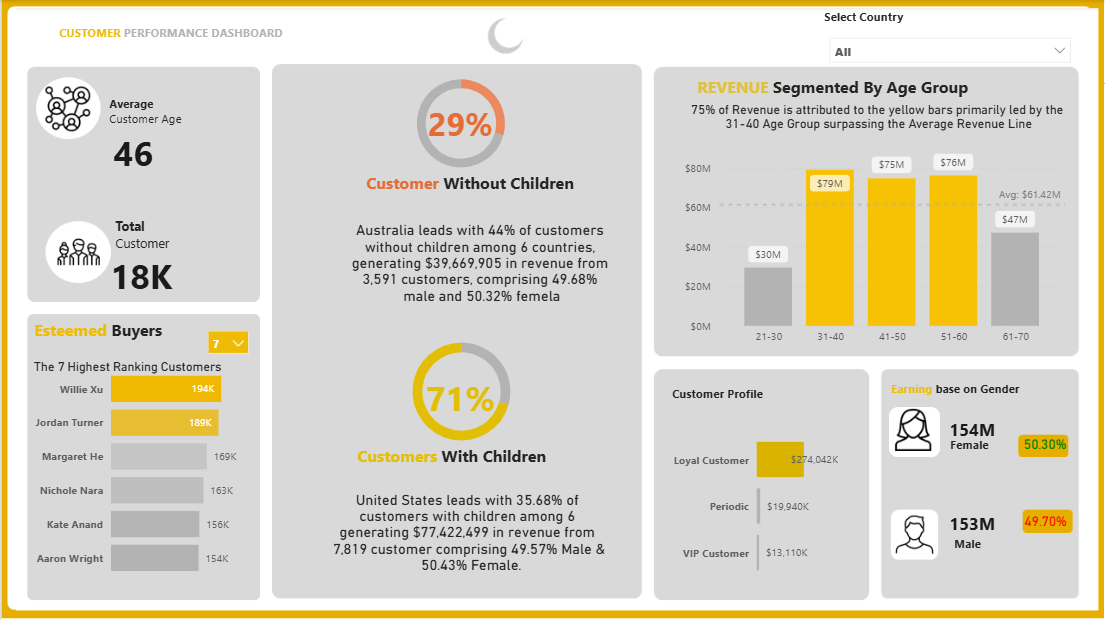

The dashboard page shown, as its layout file describes it:
{"tool":"powerbi","page":{"name":"Page 1","canvas":[1280,720],"ordinal":0},"visuals":[{"type":"lineClusteredColumnComboChart","fields":{"Category":["DimCustomer.Age Group"],"Y":["all measure.total revenue"]},"box":[787.5,161.1,452.2,246.7],"z":0},{"type":"card","fields":{"Values":["customer measure.CAPTION"]},"box":[771,108.4,496.1,56.4],"z":1000},{"type":"textbox","box":[418.9,194.4,327.3,35.2],"z":2000},{"type":"textbox","box":[408.9,510.6,266.9,39.3],"z":3000},{"type":"donutChart","fields":{"Y":["customer measure.%C without C Revenue","customer measure.%CWC Revenue"]},"box":[439.1,378.7,191.3,152.1],"z":4000},{"type":"card","fields":{"Values":["customer measure.Caption Customers Without Children"]},"box":[388.7,227.6,338.4,155.1],"z":5000},{"type":"card","fields":{"Values":["customer measure.%CWC Revenue"]},"box":[476.3,418.9,114.8,83.6],"z":6000},{"type":"card","fields":{"Values":["customer measure.Caption Customers With Children"]},"box":[368.6,549.9,348.5,134.9],"z":7000},{"type":"textbox","box":[803.4,82.5,326.9,35.8],"z":8000},{"type":"group","id":"g1","title":"Group 1","box":[444.5,67.3,185.7,138.1],"z":9000},{"type":"clusteredBarChart","fields":{"Category":["DimCustomer.Customer Type"],"Y":["all measure.total revenue"]},"box":[774.4,478.4,202.4,212.5],"z":10000},{"type":"donutChart","fields":{"Y":["customer measure.%C without C Revenue","customer measure.%CWC Revenue"]},"box":[444.5,67.3,185.3,138],"z":11000,"group":"g1"},{"type":"clusteredBarChart","fields":{"Category":["DimCustomer.FullName"],"Y":["customer measure.Dynamic Customers"]},"box":[33.2,407.9,255.8,276.9],"z":11000},{"type":"slicer","fields":{"Values":["Dynamic.Dynamic"]},"box":[229.6,373.6,68.5,45.3],"z":12000},{"type":"card","fields":{"Values":["customer measure.%C without C Revenue"]},"box":[486.8,99.5,100.7,72.5],"z":13000,"group":"g1"},{"type":"card","fields":{"Values":["customer measure.%Female Revenue"]},"box":[1175.3,502.5,71.5,28.2],"z":13000},{"type":"card","fields":{"Values":["customer measure.%Male Revenue"]},"box":[1178.3,585.1,68.5,41.3],"z":14000},{"type":"card","fields":{"Values":["customer measure.Average Cutomer Age"]},"box":[111.8,143,84.6,68.5],"z":15000},{"type":"card","fields":{"Values":["customer measure.#Customer"]},"box":[120.7,285.5,142.7,68.5],"z":16000},{"type":"textbox","box":[120.8,106.8,150.1,48.3],"z":17000},{"type":"textbox","box":[1096.7,502.5,68.5,30.2],"z":18000},{"type":"textbox","box":[1101.7,617.3,49.3,31.2],"z":19000},{"type":"textbox","box":[127.9,246.7,117.8,51.4],"z":20000},{"type":"textbox","box":[33.2,364.6,326.3,35.2],"z":21000},{"type":"card","fields":{"Values":["customer measure.Title Top Customers"]},"box":[30.2,407.9,233.6,39.3],"z":22000},{"type":"textbox","box":[1028.2,437.1,197.4,35.2],"z":23000},{"type":"card","fields":{"Values":["customer measure.Female Revenue"]},"box":[1091.7,483.4,70.5,33.2],"z":24000},{"type":"card","fields":{"Values":["customer measure.Male Revenue"]},"box":[1091.7,593.2,70.5,33.2],"z":25000},{"type":"textbox","box":[774.4,443.1,197.4,35.2],"z":26000},{"type":"textbox","box":[62.4,24.2,367.6,50.4],"z":27000},{"type":"slicer","fields":{"Values":["DimGeography.Country"]},"box":[951.7,33.2,300.1,41.3],"z":28000},{"type":"textbox","box":[950.7,6,125.9,35.2],"z":29000}]}

Visuals, with their boxes in screenshot pixels (x1, y1, x2, y2), scaled from the page's 1280x720 canvas onto the 1105x620 screenshot:
lineClusteredColumnComboChart - DimCustomer.Age Group x all measure.total revenue: detection(680, 139, 1070, 351)
card - customer measure.CAPTION: detection(666, 93, 1094, 142)
textbox: detection(362, 167, 644, 198)
textbox: detection(353, 440, 583, 474)
donutChart - customer measure.%C without C Revenue x customer measure.%CWC Revenue: detection(379, 326, 544, 457)
card - customer measure.Caption Customers Without Children: detection(336, 196, 628, 330)
card - customer measure.%CWC Revenue: detection(411, 361, 510, 433)
card - customer measure.Caption Customers With Children: detection(318, 474, 619, 590)
textbox: detection(694, 71, 976, 102)
"Group 1" group: detection(384, 58, 544, 177)
clusteredBarChart - DimCustomer.Customer Type x all measure.total revenue: detection(669, 412, 843, 595)
donutChart - customer measure.%C without C Revenue x customer measure.%CWC Revenue: detection(384, 58, 544, 177)
clusteredBarChart - DimCustomer.FullName x customer measure.Dynamic Customers: detection(29, 351, 249, 590)
slicer - Dynamic.Dynamic: detection(198, 322, 257, 361)
card - customer measure.%C without C Revenue: detection(420, 86, 507, 148)
card - customer measure.%Female Revenue: detection(1015, 433, 1076, 457)
card - customer measure.%Male Revenue: detection(1017, 504, 1076, 539)
card - customer measure.Average Cutomer Age: detection(97, 123, 170, 182)
card - customer measure.#Customer: detection(104, 246, 227, 305)
textbox: detection(104, 92, 234, 134)
textbox: detection(947, 433, 1006, 459)
textbox: detection(951, 532, 994, 558)
textbox: detection(110, 212, 212, 257)
textbox: detection(29, 314, 310, 344)
card - customer measure.Title Top Customers: detection(26, 351, 228, 385)
textbox: detection(888, 376, 1058, 407)
card - customer measure.Female Revenue: detection(942, 416, 1003, 445)
card - customer measure.Male Revenue: detection(942, 511, 1003, 539)
textbox: detection(669, 382, 839, 412)
textbox: detection(54, 21, 371, 64)
slicer - DimGeography.Country: detection(822, 29, 1081, 64)
textbox: detection(821, 5, 929, 35)
